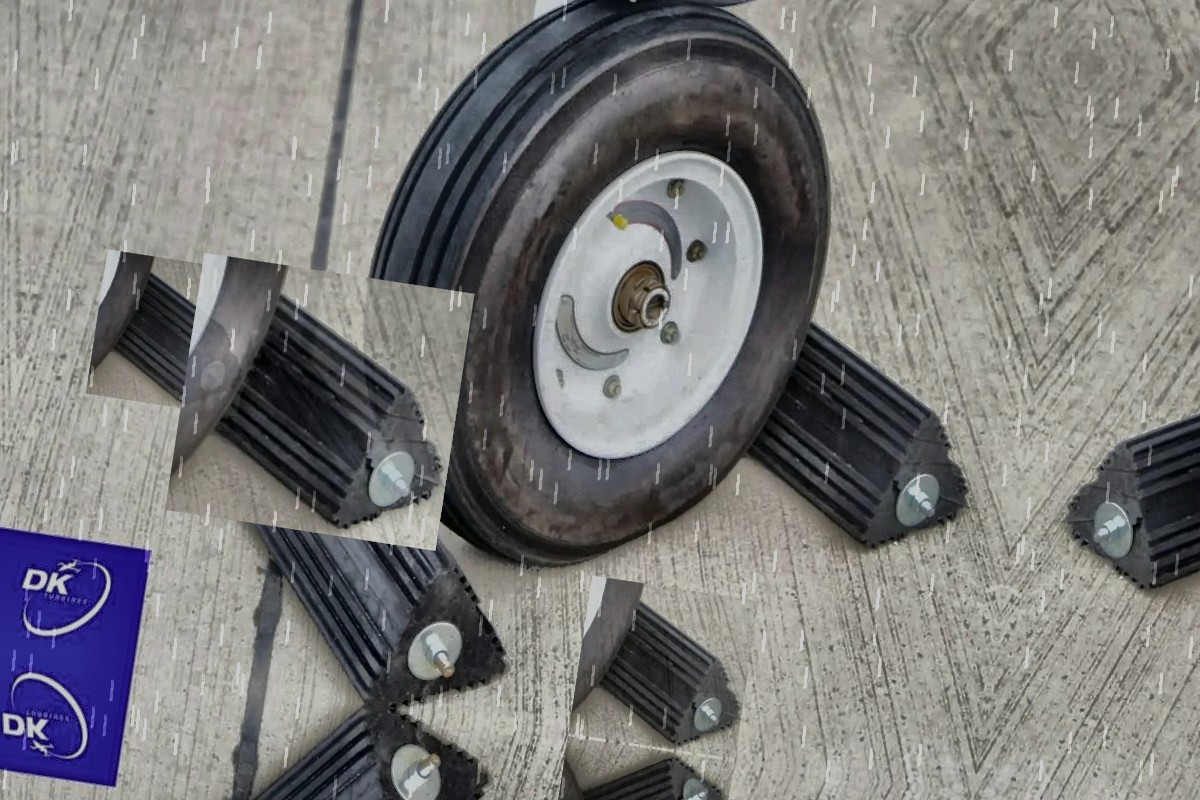chock: (132, 311, 554, 725), (165, 253, 474, 551), (700, 282, 998, 570), (78, 669, 500, 800), (1053, 336, 1200, 623), (568, 576, 759, 759), (86, 249, 259, 417), (544, 737, 734, 800)
wheel: (337, 0, 859, 597)
